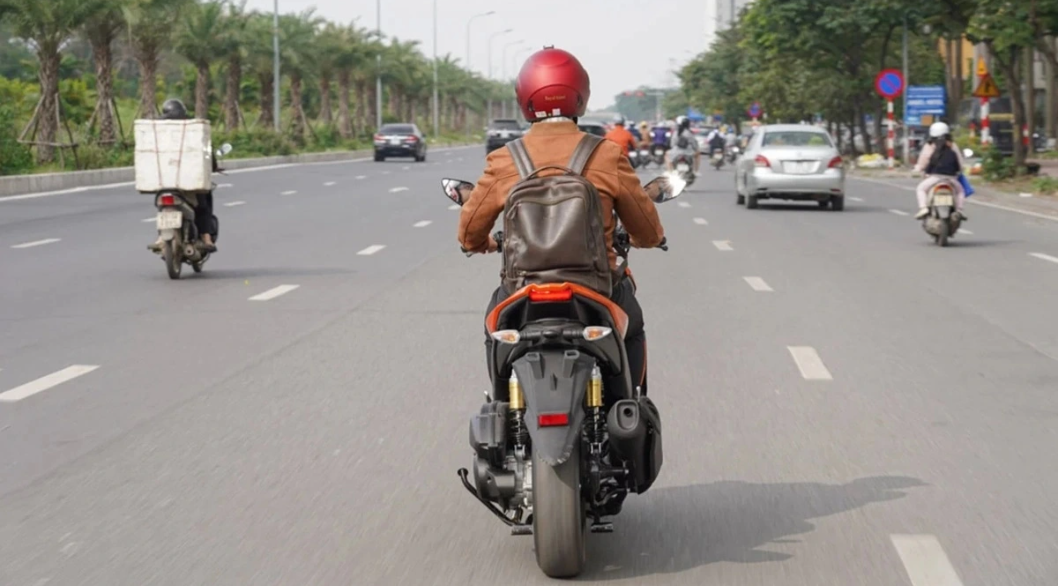bien_so: (155, 209, 185, 232)
